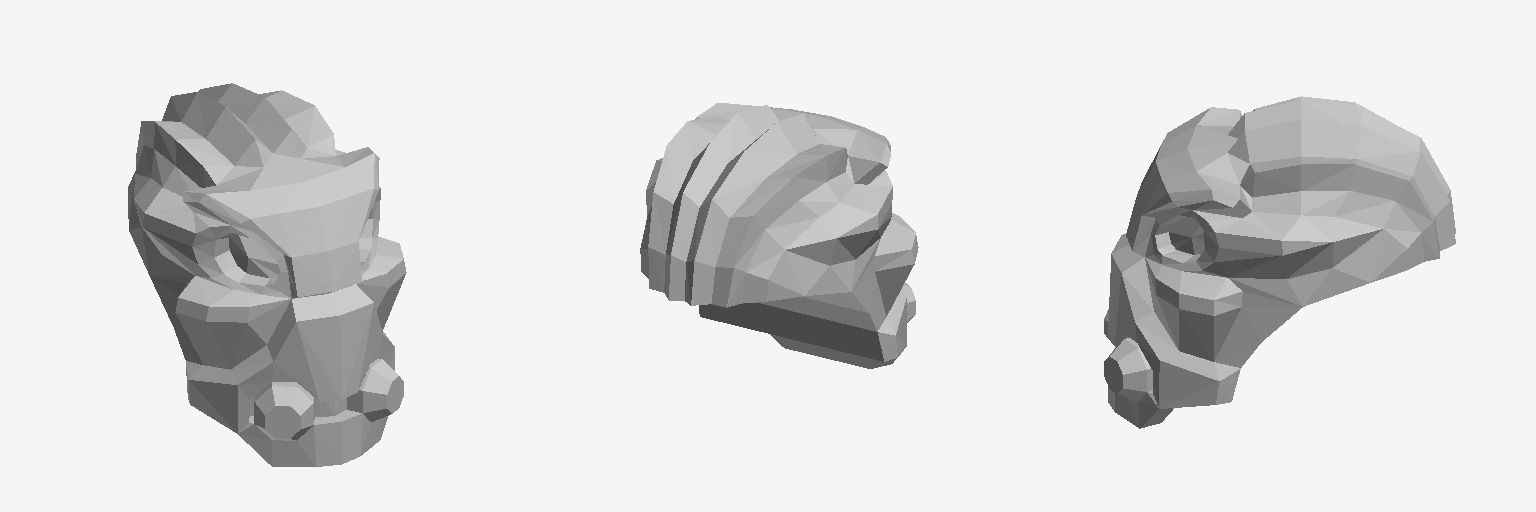
The model's file is matoro_head.obj.
3 views of the same model, side by side, from view 1: azimuth 30°, elevation 25°; view 2: azimuth 150°, elevation 25°; view 3: azimuth 270°, elevation 25° (orthographic).
Visible parts, largest first — view 1: matoro.bh_matoro_reference.smd.mesh_0; view 2: matoro.bh_matoro_reference.smd.mesh_0; view 3: matoro.bh_matoro_reference.smd.mesh_0.
Part boxes in pixels (x1,y1,x2,y2): matoro.bh_matoro_reference.smd.mesh_0: (128, 83, 406, 466); matoro.bh_matoro_reference.smd.mesh_0: (640, 103, 918, 368); matoro.bh_matoro_reference.smd.mesh_0: (1104, 96, 1455, 428).
Size of the model in its own units: 11.17 by 13.74 by 15.